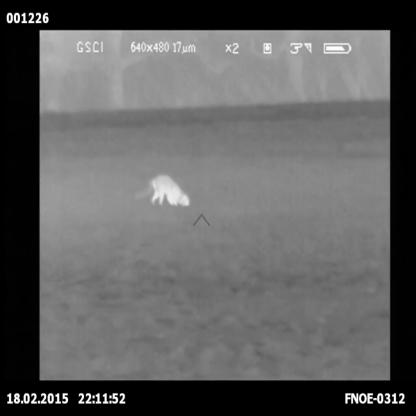rehkitze: (147, 169, 195, 210)
